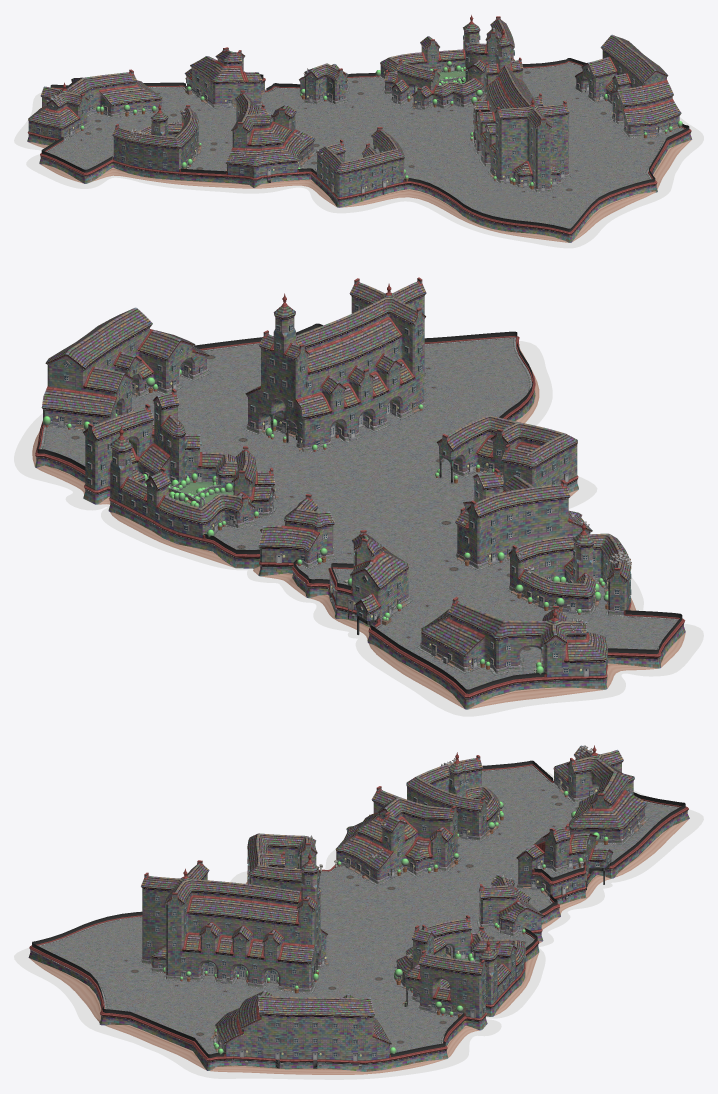
The model's file is First_at2.glb.
3 renders of one model, top to bottom at view 1: azimuth 30°, elevation 25°; view 2: azimuth 150°, elevation 25°; view 3: azimuth 270°, elevation 25°, orthographic. The views are drawn at different scales.
Visible parts, largest first — view 1: House, Water, Sand, Windows, Fencing, Props, Plants; view 2: House, Water, Windows, Sand, Fencing, Props, Plants; view 3: House, Water, Windows, Sand, Fencing, Props, Plants.
Boxes of the visible parts, <box> form: House: <box>27,16,691,242</box>; Water: <box>14,92,703,248</box>; Sand: <box>28,139,691,242</box>; Windows: <box>37,35,673,193</box>; Fencing: <box>41,58,689,231</box>; Props: <box>63,15,680,198</box>; Plants: <box>80,61,682,186</box>; House: <box>35,277,685,709</box>; Water: <box>14,341,703,716</box>; Windows: <box>59,304,631,676</box>; Sand: <box>32,349,685,709</box>; Fencing: <box>37,323,682,693</box>; Props: <box>45,283,608,673</box>; Plants: <box>43,369,608,674</box>; House: <box>28,745,689,1071</box>; Water: <box>14,770,703,1079</box>; Windows: <box>146,775,639,1061</box>; Sand: <box>29,819,688,1074</box>; Fencing: <box>32,760,685,1068</box>; Props: <box>122,745,645,1068</box>; Plants: <box>151,791,608,1054</box>.
Bounding box in the file's own units: 43.31 × 8.83 × 40.48.
Materials: 3 (2 with a texture image).
